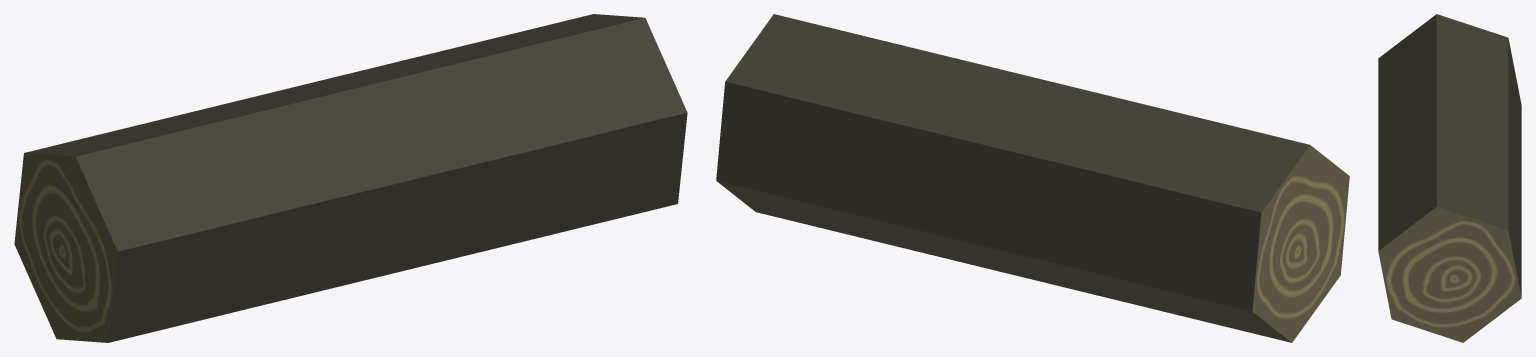
File: tree_logPile01.fbx
The picture shows the model from 3 angles, left to right: view 1: azimuth 30°, elevation 25°; view 2: azimuth 150°, elevation 25°; view 3: azimuth 270°, elevation 25°; orthographic projection. The views are drawn at different scales.
Visible parts, largest first — view 1: tree_log01; view 2: tree_log01; view 3: tree_log01.
Boxes of the visible parts, bbox=[...] form: tree_log01: bbox=[14, 14, 687, 342]; tree_log01: bbox=[716, 14, 1349, 342]; tree_log01: bbox=[1378, 14, 1521, 342].
Size of the model in its own units: 69.52 by 22.91 by 21.86.
